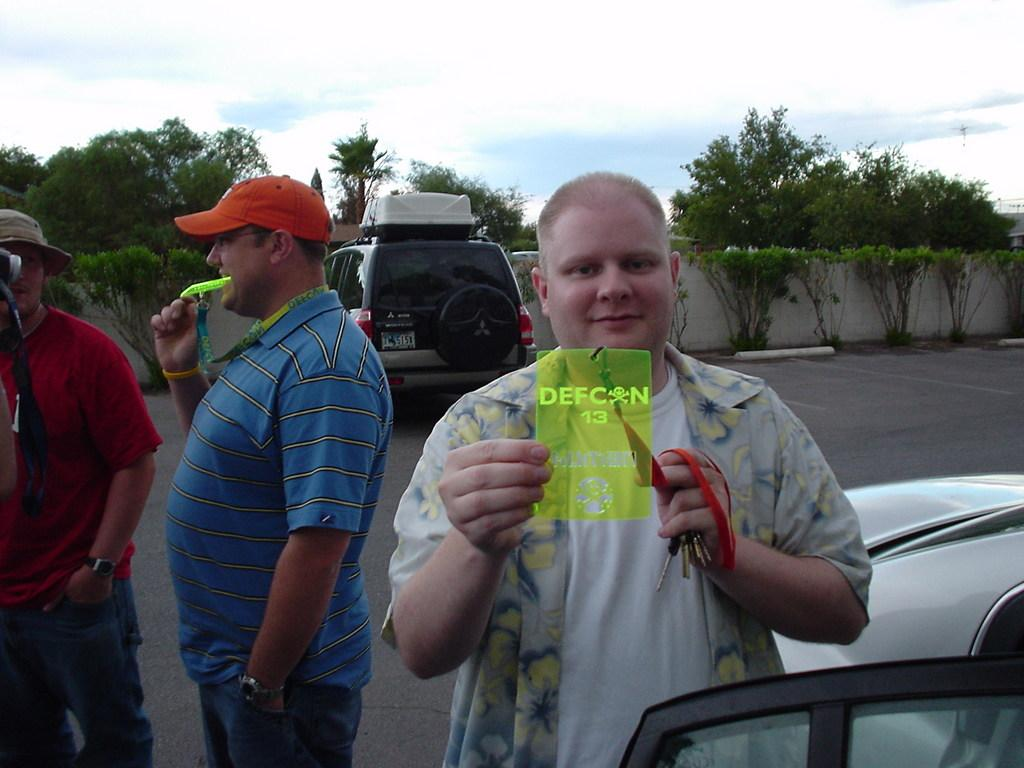Hat: (174, 170, 330, 238), (0, 212, 78, 276)
